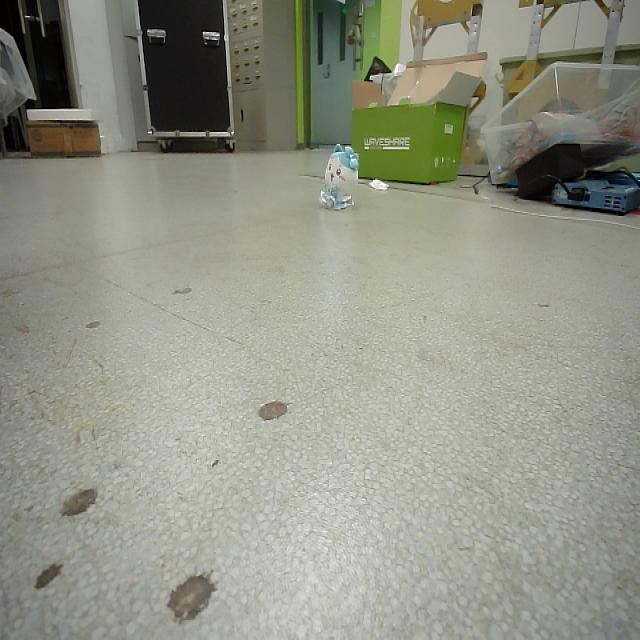xiaoba: (322, 144, 359, 220)
